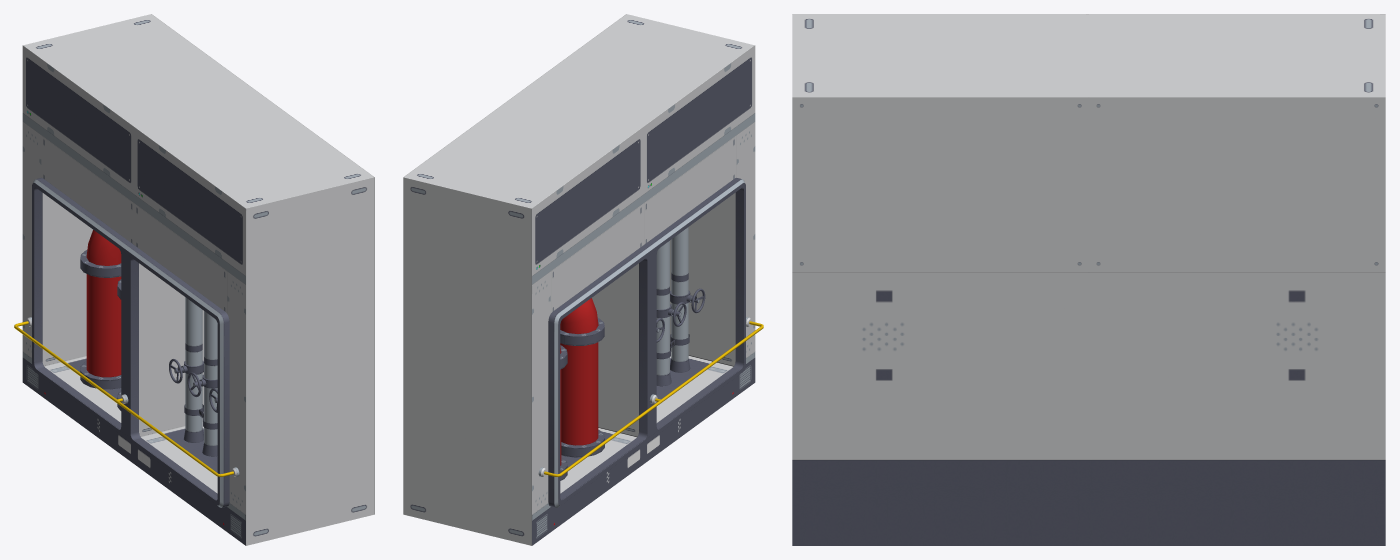
File: Wall_Normal_Simple_08.FBX
The picture shows the model from 3 angles, left to right: view 1: azimuth 30°, elevation 25°; view 2: azimuth 150°, elevation 25°; view 3: azimuth 270°, elevation 25°; orthographic projection. The views are drawn at different scales.
Visible parts, largest first — view 1: Wall_Normal_Simple_08; view 2: Wall_Normal_Simple_08; view 3: Wall_Normal_Simple_08.
Boxes of the visible parts, x1,y1,x2,y2 form: Wall_Normal_Simple_08: [14, 14, 374, 545]; Wall_Normal_Simple_08: [403, 14, 763, 545]; Wall_Normal_Simple_08: [792, 14, 1385, 545].
Size of the model in its own units: 2.29 by 5 by 6.
Materials: 4 (4 with a texture image).
